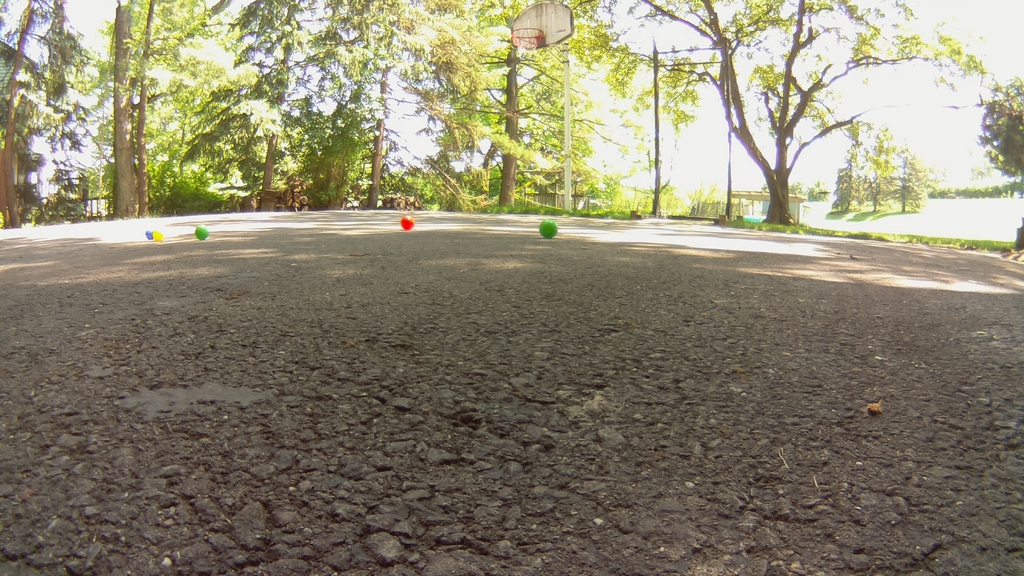ball: (194, 226, 208, 242)
